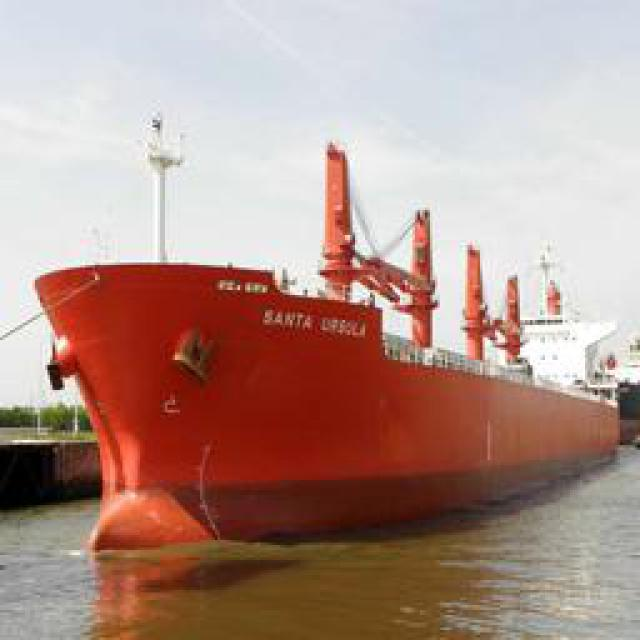Ship: (35, 178, 623, 543)
